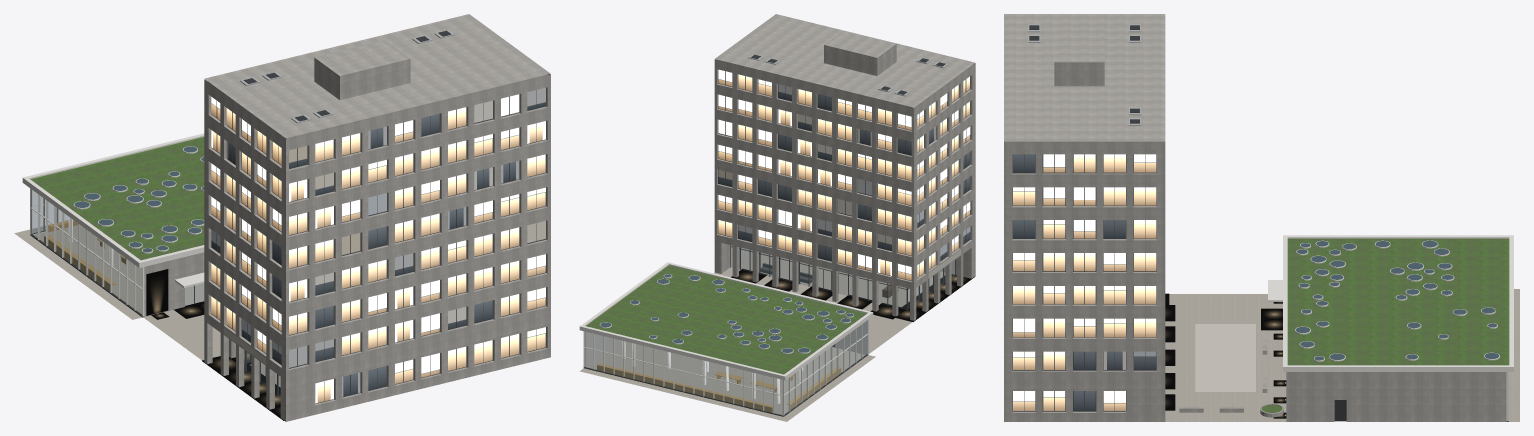
File: campus_socsci.glb
3 views of the same model, side by side, from view 1: azimuth 30°, elevation 25°; view 2: azimuth 150°, elevation 25°; view 3: azimuth 270°, elevation 25° (orthographic). The views are drawn at different scales.
Parts seen in each view (by area): view 1: soc_conc, soc_glass, soc_green, soc_misc, soc_frame, soc_ceilL, soc_white, soc_pave, soc_gclear, NOSHADOW_soc_wash, soc_pillar; view 2: soc_conc, soc_green, soc_glass, soc_gclear, soc_pave, soc_misc, soc_white, soc_frame, soc_ceilL, soc_pillar, NOSHADOW_soc_wash; view 3: soc_conc, soc_green, soc_glass, soc_pave, soc_misc, soc_white, soc_ceilL, soc_frame, NOSHADOW_soc_wash.
Boxes of the visible parts, bbox=[...] form: soc_conc: bbox=[143, 14, 550, 421]; soc_glass: bbox=[211, 102, 545, 402]; soc_green: bbox=[30, 137, 204, 260]; soc_misc: bbox=[30, 30, 545, 396]; soc_frame: bbox=[194, 88, 546, 403]; soc_ceilL: bbox=[68, 94, 545, 403]; soc_white: bbox=[22, 133, 204, 316]; soc_pave: bbox=[14, 225, 280, 387]; soc_gclear: bbox=[31, 190, 280, 396]; NOSHADOW_soc_wash: bbox=[146, 269, 284, 420]; soc_pillar: bbox=[204, 321, 274, 409]; soc_conc: bbox=[584, 14, 975, 366]; soc_green: bbox=[586, 265, 866, 374]; soc_glass: bbox=[718, 74, 969, 280]; soc_gclear: bbox=[584, 245, 955, 414]; soc_pave: bbox=[580, 252, 945, 421]; soc_misc: bbox=[583, 54, 970, 416]; soc_white: bbox=[579, 262, 873, 415]; soc_frame: bbox=[718, 69, 970, 347]; soc_ceilL: bbox=[622, 69, 970, 403]; soc_pillar: bbox=[732, 245, 963, 320]; NOSHADOW_soc_wash: bbox=[731, 268, 974, 346]; soc_conc: bbox=[1004, 14, 1507, 421]; soc_green: bbox=[1261, 238, 1509, 412]; soc_glass: bbox=[1013, 154, 1156, 410]; soc_pave: bbox=[1165, 289, 1519, 421]; soc_misc: bbox=[1013, 24, 1508, 421]; soc_white: bbox=[1268, 235, 1513, 420]; soc_ceilL: bbox=[1013, 154, 1156, 402]; soc_frame: bbox=[1012, 154, 1156, 411]; NOSHADOW_soc_wash: bbox=[1165, 293, 1286, 418].
Bounding box in the file's own units: 31.5 × 33.3 × 51.2.
15 materials, 6 textured.
